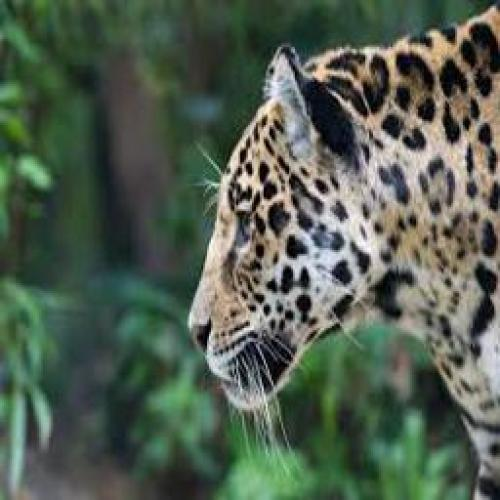amur_leopard-endangered: (187, 0, 500, 500)
